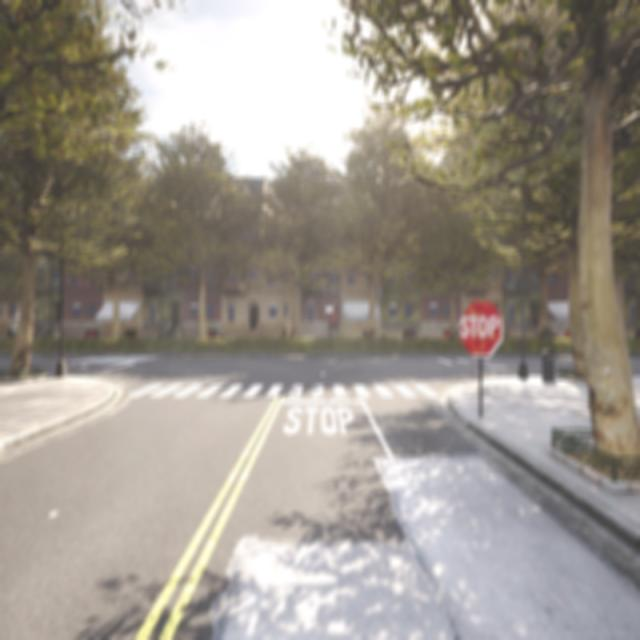stop sign: (455, 294, 506, 360), (459, 312, 501, 341)
